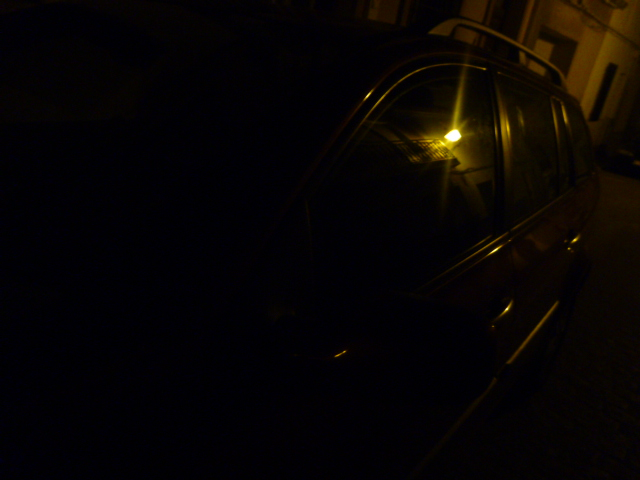car: (16, 13, 615, 476)
